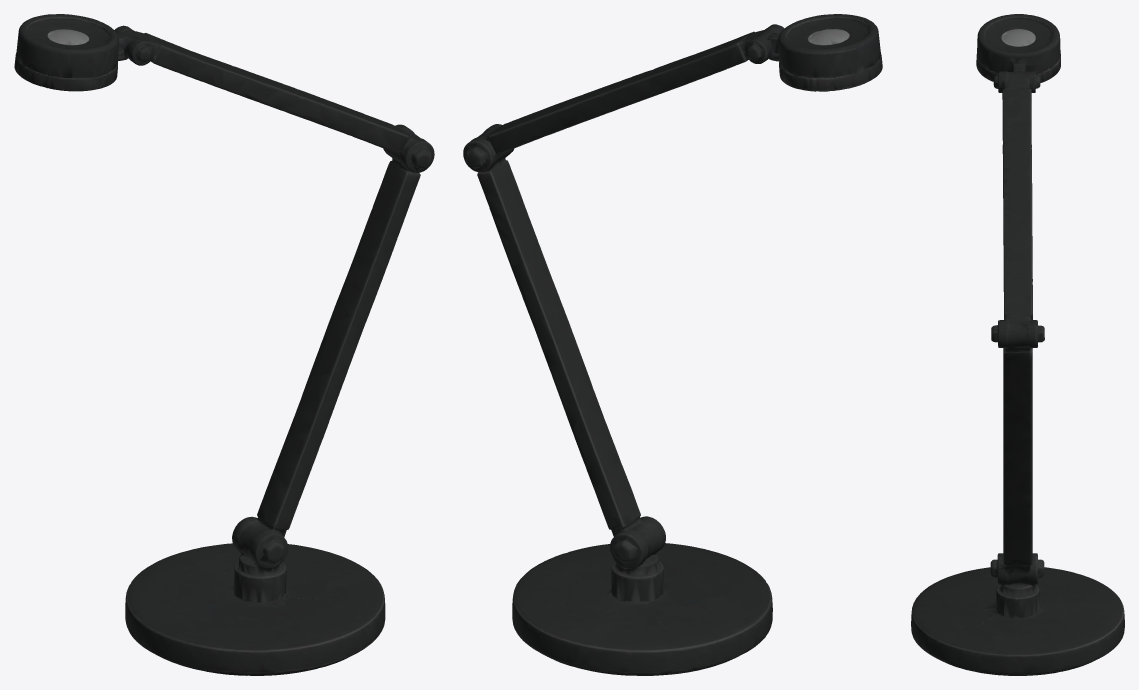
The model's file is desk-lamp.glb.
The picture shows the model from 3 angles, left to right: view 1: azimuth 30°, elevation 25°; view 2: azimuth 150°, elevation 25°; view 3: azimuth 270°, elevation 25°; orthographic projection. The views are drawn at different scales.
Bounding box in the file's own units: 1.24 × 1.9 × 0.6964.
Materials: 1 (1 with a texture image).
